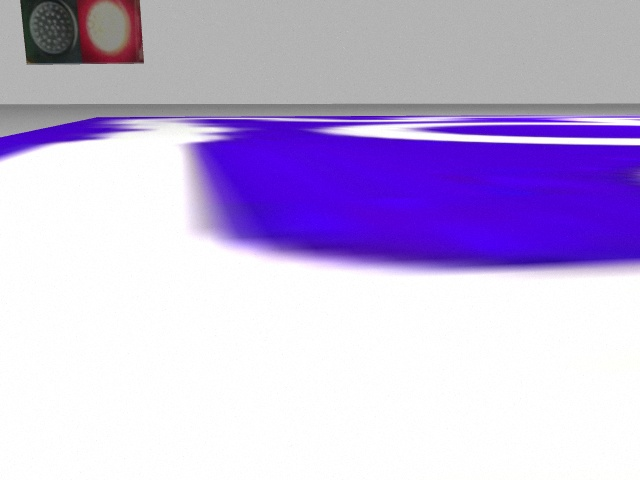red: (78, 3, 143, 60)
